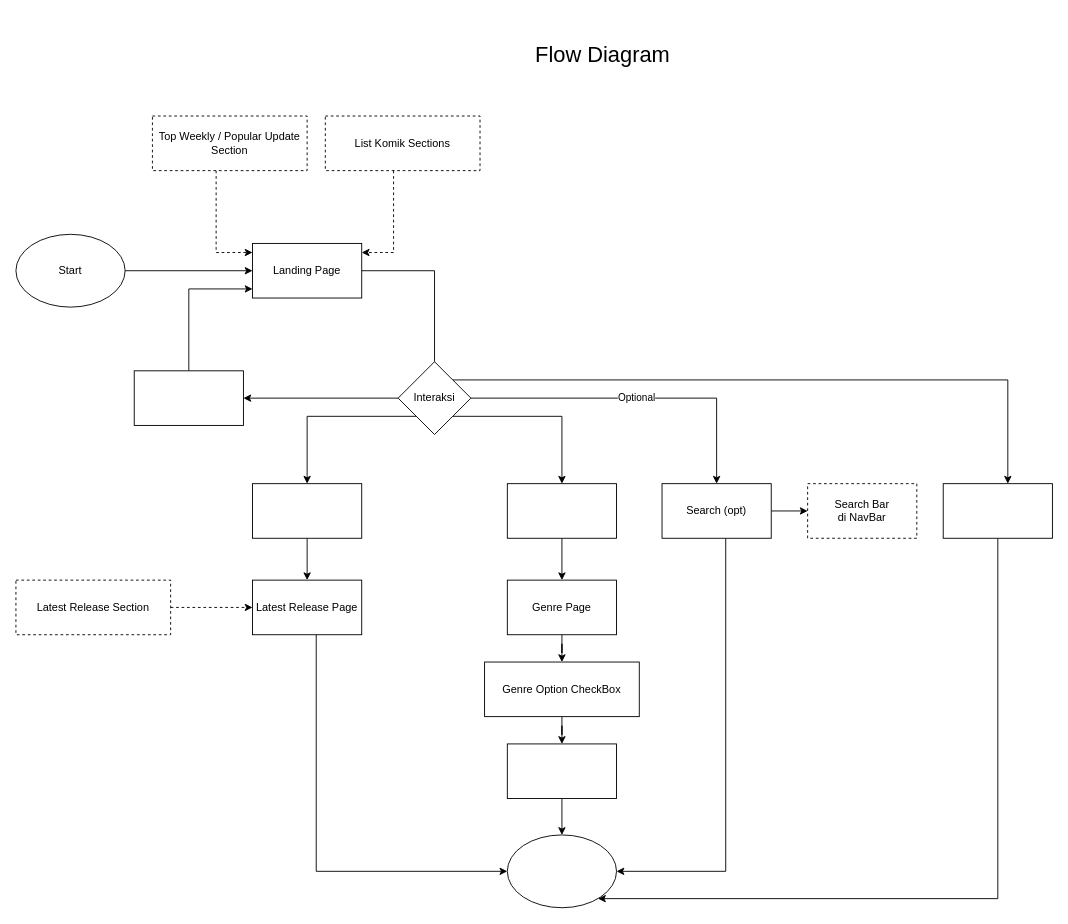
The diagram is 1068 pixels wide and 924 high, and some of its shapes have lost their labels. Each missing label, with the centre of its shape:
"End" goes at (561,871).
"Genre" goes at (561,510).
"Home" goes at (188,397).
"Latest" goes at (307,510).
"Selected Genre (new view / refresh javascripts)" goes at (561,771).
"Toggle Dark / Light Mode" goes at (997,510).
